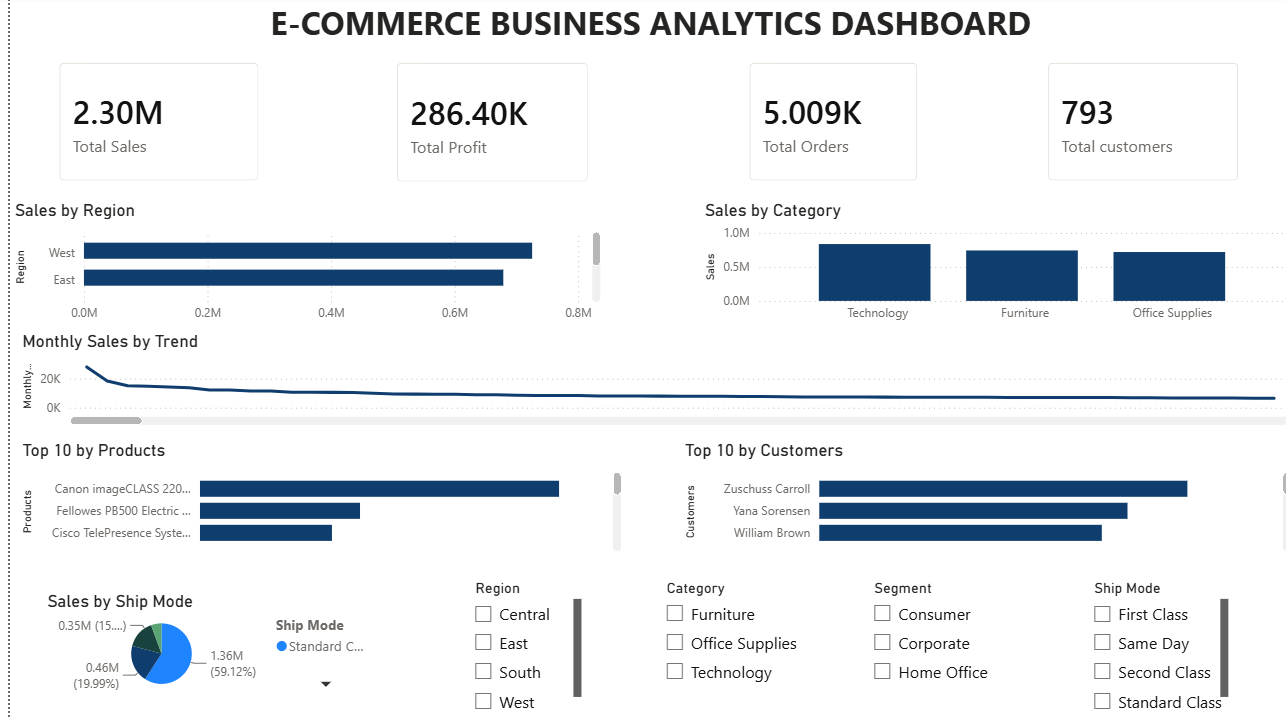

This screenshot's page, from the dashboard's own definition file:
{"tool":"powerbi","page":{"name":"Page 1","canvas":[1280,720],"ordinal":0},"visuals":[{"type":"cardVisual","fields":{"Data":["Sum(Superstore.Sales)"]},"box":[32.4,50,232.4,151.5],"z":0},{"type":"cardVisual","fields":{"Data":["Count(Superstore.Order ID)"]},"box":[719.1,50,201.5,151.5],"z":3},{"type":"cardVisual","fields":{"Data":["Sum(Superstore.Profit)"]},"box":[367.6,50,225,152.9],"z":4},{"type":"cardVisual","fields":{"Data":["Count(Superstore.Customer Name)"]},"box":[1016.2,50,223.5,151.5],"z":5},{"type":"clusteredBarChart","fields":{"Category":["Superstore.Region"],"Y":["Sum(Superstore.Sales)"]},"box":[0,202.9,592.6,130.9],"z":6},{"type":"clusteredColumnChart","fields":{"Category":["Superstore.Category"],"Y":["Sum(Superstore.Sales)"]},"box":[686.8,202.9,592.6,130.9],"z":7},{"type":"lineChart","fields":{"Category":["Superstore.Order Date"],"Y":["Sum(Superstore.Sales)"]},"box":[7.4,333.8,1272.1,98.5],"z":8},{"type":"pieChart","fields":{"Category":["Superstore.Ship Mode"],"Y":["Sum(Superstore.Sales)"]},"box":[32.4,592.6,335.3,105.9],"z":9},{"type":"clusteredBarChart","fields":{"Category":["Superstore.Product Name"],"Y":["Sum(Superstore.Sales)"]},"box":[7.4,441.2,605.9,116.2],"z":10},{"type":"clusteredBarChart","fields":{"Category":["Superstore.Customer Name"],"Y":["Sum(Superstore.Sales)"]},"box":[666.2,441.2,613.2,116.2],"z":11},{"type":"slicer","fields":{"Values":["Superstore.Region"]},"box":[450,576.5,123.5,138.2],"z":12},{"type":"slicer","fields":{"Values":["Superstore.Category"]},"box":[641.2,576.5,154.4,138.2],"z":13},{"type":"slicer","fields":{"Values":["Superstore.Segment"]},"box":[847.1,576.5,151.5,138.2],"z":14},{"type":"slicer","fields":{"Values":["Superstore.Ship Mode"]},"box":[1066.2,576.5,151.5,138.2],"z":15},{"type":"textbox","box":[0,0,1280.9,58.8],"z":16}]}

Visuals, with their boxes in screenshot pixels (x1, y1, x2, y2), scaled from the page's 1280x720 canvas onto the 1286x717 screenshot:
cardVisual - Sum(Superstore.Sales): x1=33, y1=50, x2=266, y2=201
cardVisual - Count(Superstore.Order ID): x1=722, y1=50, x2=925, y2=201
cardVisual - Sum(Superstore.Profit): x1=369, y1=50, x2=595, y2=202
cardVisual - Count(Superstore.Customer Name): x1=1021, y1=50, x2=1246, y2=201
clusteredBarChart - Superstore.Region x Sum(Superstore.Sales): x1=0, y1=202, x2=595, y2=332
clusteredColumnChart - Superstore.Category x Sum(Superstore.Sales): x1=690, y1=202, x2=1285, y2=332
lineChart - Superstore.Order Date x Sum(Superstore.Sales): x1=7, y1=332, x2=1285, y2=430
pieChart - Superstore.Ship Mode x Sum(Superstore.Sales): x1=33, y1=590, x2=369, y2=696
clusteredBarChart - Superstore.Product Name x Sum(Superstore.Sales): x1=7, y1=439, x2=616, y2=555
clusteredBarChart - Superstore.Customer Name x Sum(Superstore.Sales): x1=669, y1=439, x2=1285, y2=555
slicer - Superstore.Region: x1=452, y1=574, x2=576, y2=712
slicer - Superstore.Category: x1=644, y1=574, x2=799, y2=712
slicer - Superstore.Segment: x1=851, y1=574, x2=1003, y2=712
slicer - Superstore.Ship Mode: x1=1071, y1=574, x2=1223, y2=712
textbox: x1=0, y1=0, x2=1285, y2=59
